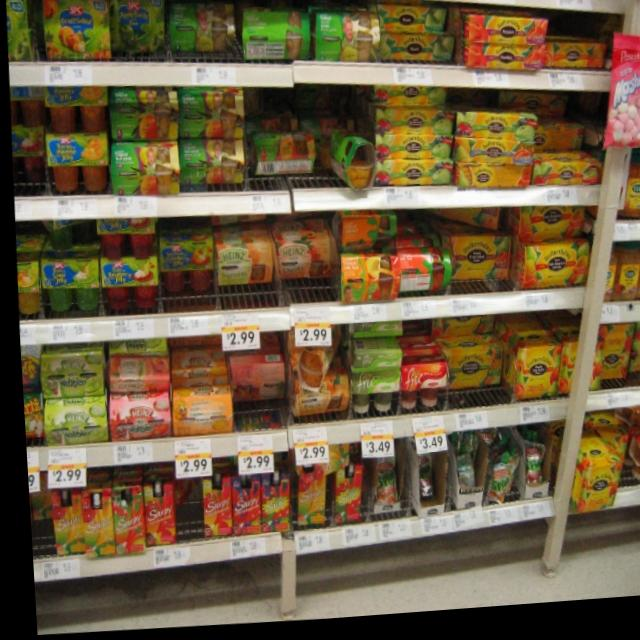q121: (40, 0, 114, 72), (106, 0, 170, 68)
